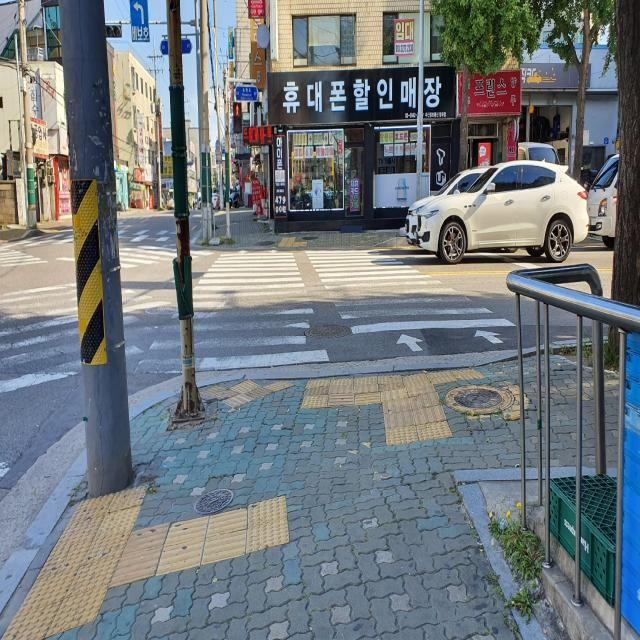횡단보도: (134, 250, 516, 374), (1, 288, 74, 385), (120, 231, 176, 245)
